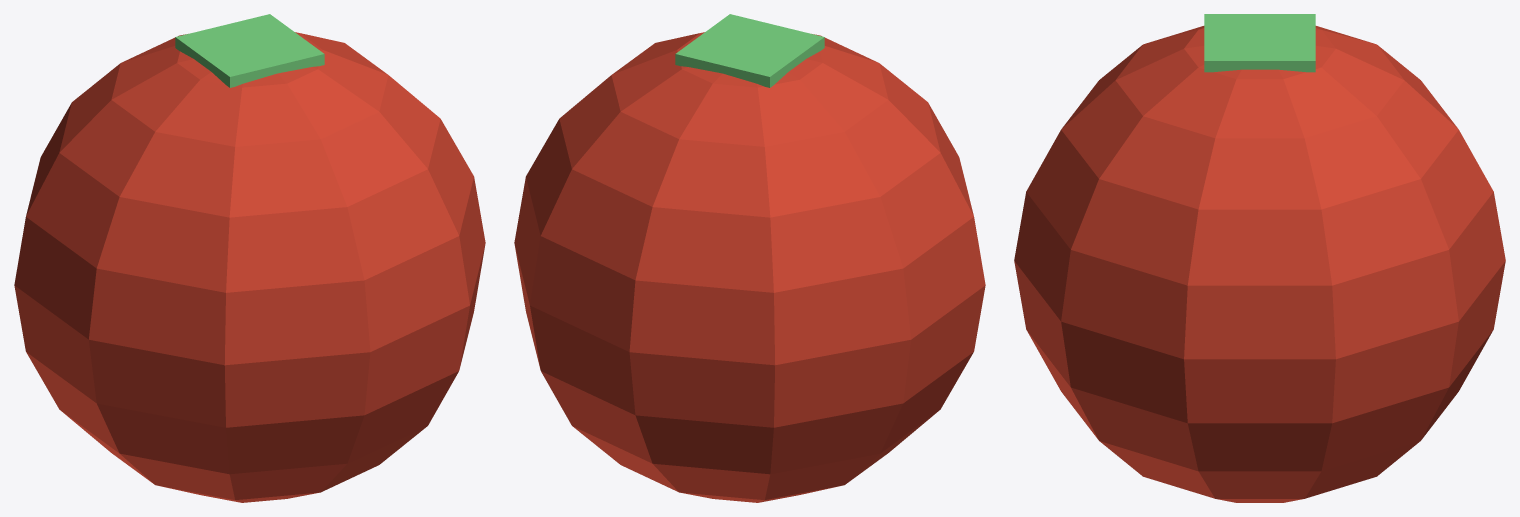
The model's file is tomato.fbx.
The picture shows the model from 3 angles, left to right: view 1: azimuth 30°, elevation 25°; view 2: azimuth 150°, elevation 25°; view 3: azimuth 270°, elevation 25°; orthographic projection. The views are drawn at different scales.
Visible parts, largest first — view 1: Sphere, Cube; view 2: Sphere, Cube; view 3: Sphere, Cube.
Part boxes in pixels (x1=…): Sphere: x1=14, y1=32, x2=485, y2=502; Cube: x1=175, y1=14, x2=324, y2=87; Sphere: x1=514, y1=32, x2=985, y2=502; Cube: x1=675, y1=14, x2=824, y2=87; Sphere: x1=1014, y1=26, x2=1505, y2=502; Cube: x1=1204, y1=14, x2=1315, y2=72.
Bounding box in the file's own units: 190 × 200 × 200.
